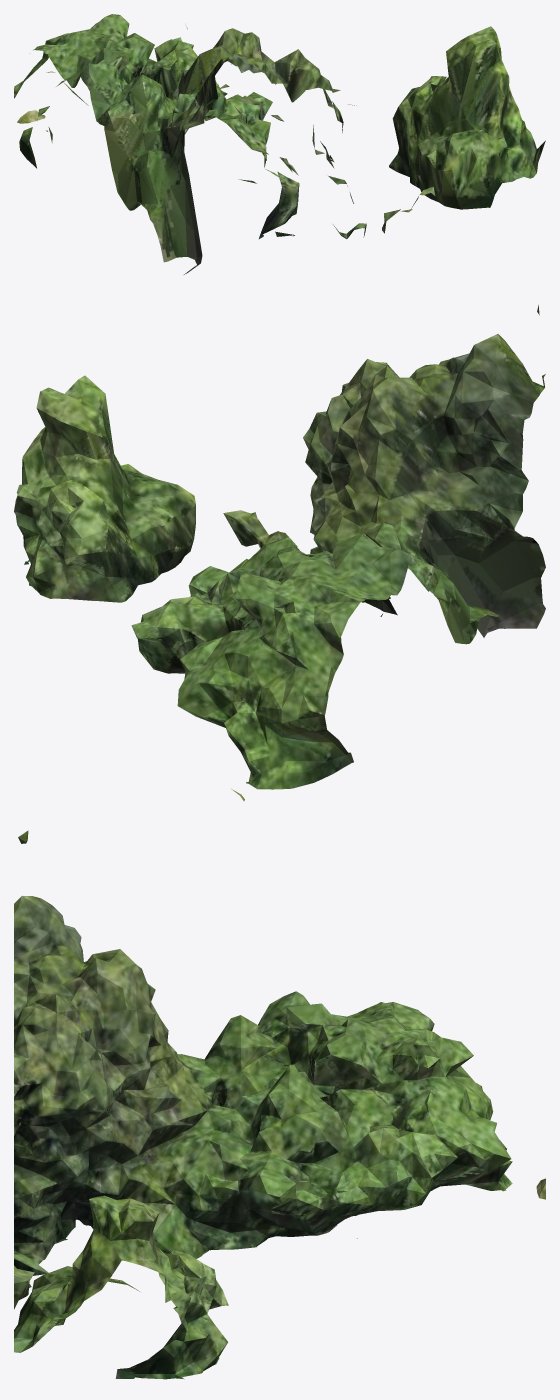
3 views of the same model, one above another, from view 1: azimuth 30°, elevation 25°; view 2: azimuth 150°, elevation 25°; view 3: azimuth 270°, elevation 25° (orthographic). The views are drawn at different scales.
Bounding box in the file's own units: 26.11 × 17.91 × 26.11.
3 materials, 3 textured.
